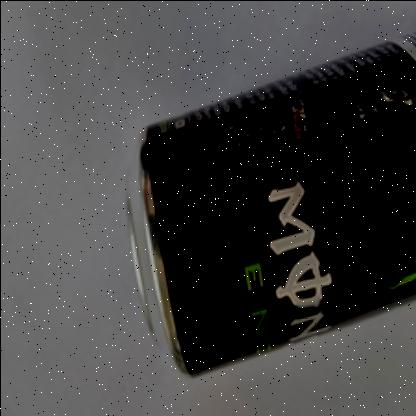Can: (122, 32, 416, 380)
